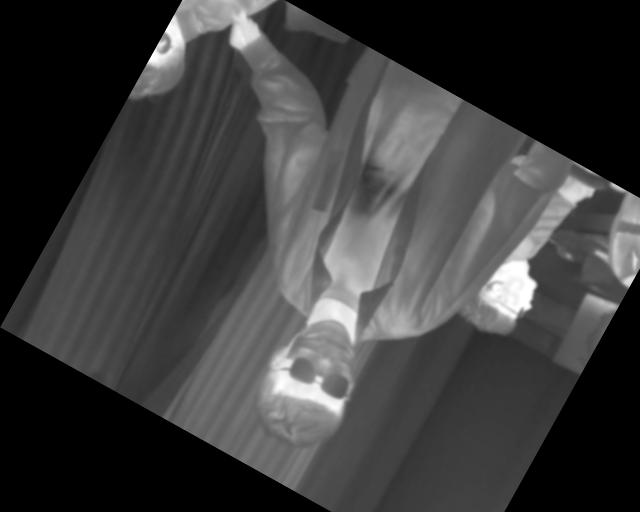face: (238, 304, 383, 465)
